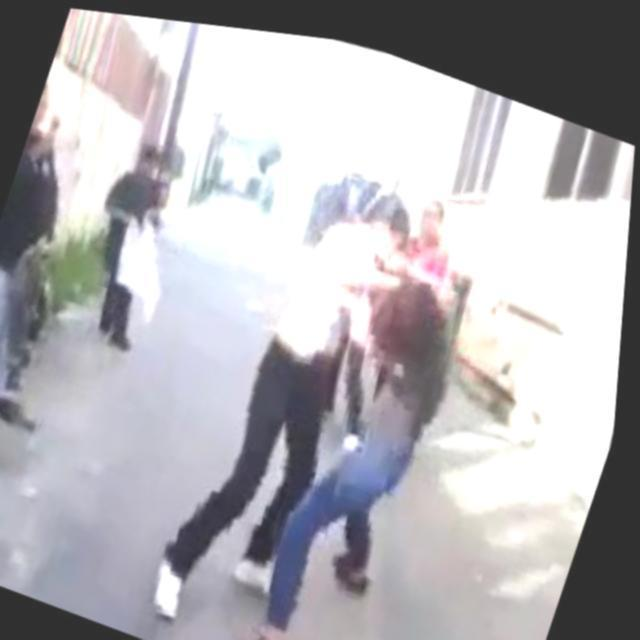fight: (138, 121, 520, 640)
